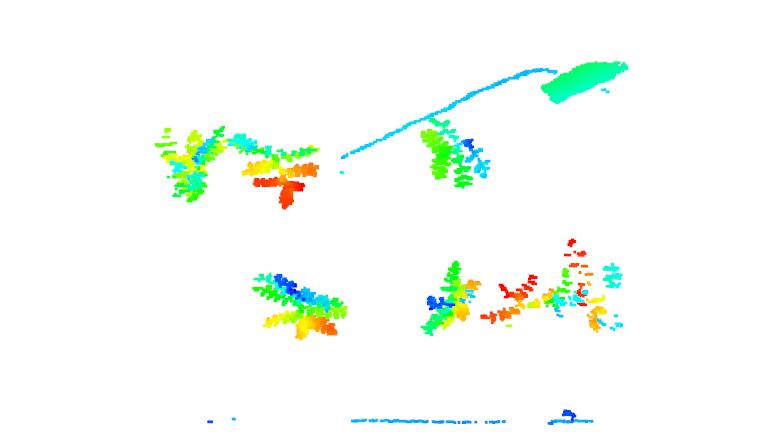chickpea: (552, 232, 625, 333), (251, 270, 352, 341), (230, 133, 323, 209), (153, 125, 231, 204), (419, 114, 493, 188), (419, 260, 482, 338), (480, 275, 556, 325)
